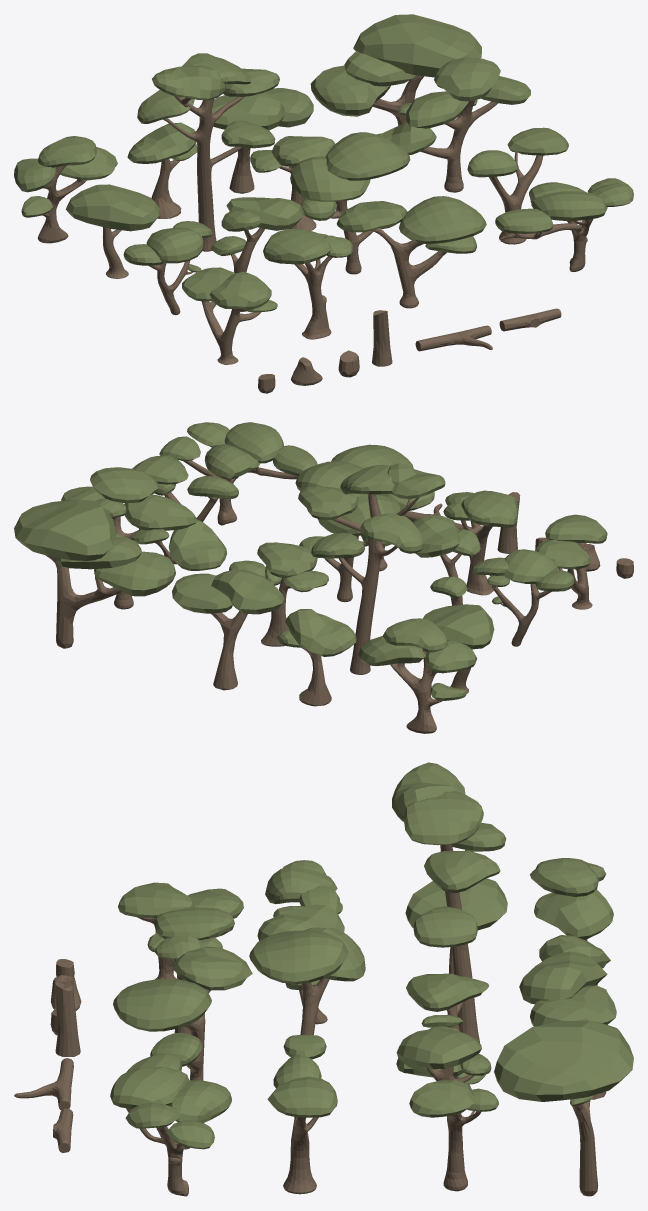
The model's file is Arbres.fbx.
3 renders of one model, top to bottom at view 1: azimuth 30°, elevation 25°; view 2: azimuth 150°, elevation 25°; view 3: azimuth 270°, elevation 25°, orthographic. The views are drawn at different scales.
Visible parts, largest first — view 1: Cube.039, Cube.011, Cube.046, Cube.074, Cube.023, Cube.009, Cube.047, Cube.033, Cube.026, Cube.025, Cube.002, Cube.006 (+48 smaller); view 2: Cube.039, Cube.023, Cube.009, Cube.006, Cube.002, Cube.030, Cube.011, Cube.008, Cube.031, Cube.033, Cube.003, Cube.025 (+43 smaller); view 3: Cube.039, Cube.046, Cube.074, Cube.071, Cube.002, Cube.016, Cube.011, Cube.033, Cube.076, Cube.078, Cube.003, Cube.028 (+33 smaller).
Part boxes in pixels (x1=…): Cube.039: x1=353, y1=14, x2=481, y2=77; Cube.011: x1=65, y1=184, x2=159, y2=231; Cube.046: x1=326, y1=132, x2=410, y2=180; Cube.074: x1=399, y1=196, x2=486, y2=243; Cube.023: x1=163, y1=96, x2=244, y2=251; Cube.009: x1=310, y1=65, x2=390, y2=116; Cube.047: x1=290, y1=156, x2=370, y2=201; Cube.033: x1=434, y1=57, x2=500, y2=101; Cube.026: x1=152, y1=65, x2=226, y2=100; Cube.025: x1=263, y1=228, x2=331, y2=264; Cube.002: x1=212, y1=92, x2=284, y2=130; Cube.006: x1=127, y1=122, x2=196, y2=163; Cube.039: x1=14, y1=499, x2=116, y2=560; Cube.023: x1=333, y1=494, x2=419, y2=674; Cube.009: x1=94, y1=551, x2=175, y2=596; Cube.006: x1=285, y1=609, x2=356, y2=656; Cube.002: x1=211, y1=569, x2=284, y2=614; Cube.030: x1=168, y1=519, x2=227, y2=570; Cube.011: x1=423, y1=604, x2=494, y2=649; Cube.008: x1=45, y1=555, x2=121, y2=648; Cube.031: x1=124, y1=494, x2=196, y2=530; Cube.033: x1=90, y1=467, x2=158, y2=503; Cube.003: x1=172, y1=573, x2=232, y2=613; Cube.025: x1=461, y1=490, x2=518, y2=527; Cube.039: x1=494, y1=1020, x2=633, y2=1101; Cube.046: x1=249, y1=930, x2=348, y2=984; Cube.074: x1=113, y1=979, x2=211, y2=1031; Cube.071: x1=404, y1=791, x2=483, y2=845; Cube.002: x1=519, y1=951, x2=607, y2=1004; Cube.016: x1=534, y1=889, x2=613, y2=939; Cube.011: x1=405, y1=878, x2=507, y2=930; Cube.033: x1=396, y1=1028, x2=481, y2=1069; Cube.076: x1=173, y1=946, x2=252, y2=990; Cube.078: x1=110, y1=1066, x2=189, y2=1108; Cube.003: x1=530, y1=985, x2=616, y2=1026; Cube.028: x1=424, y1=851, x2=500, y2=893.
Bounding box in the file's own units: 8995 × 3753 × 8507.
